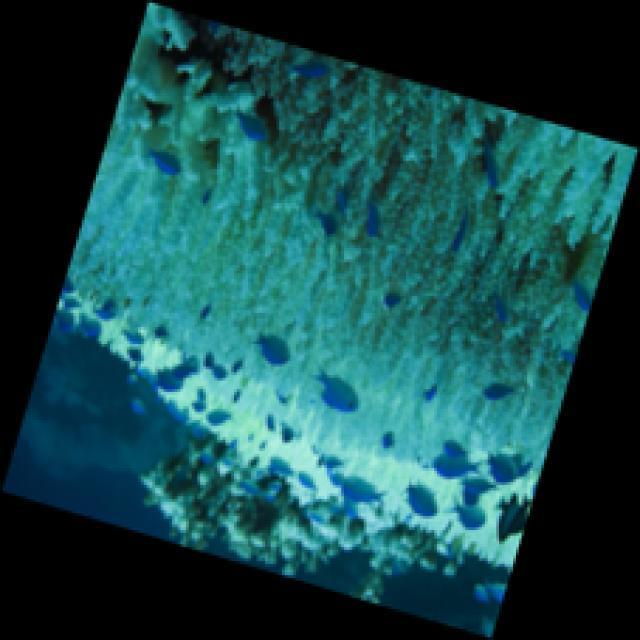Bleached: (67, 1, 609, 466), (181, 1, 576, 370), (495, 110, 640, 252)
